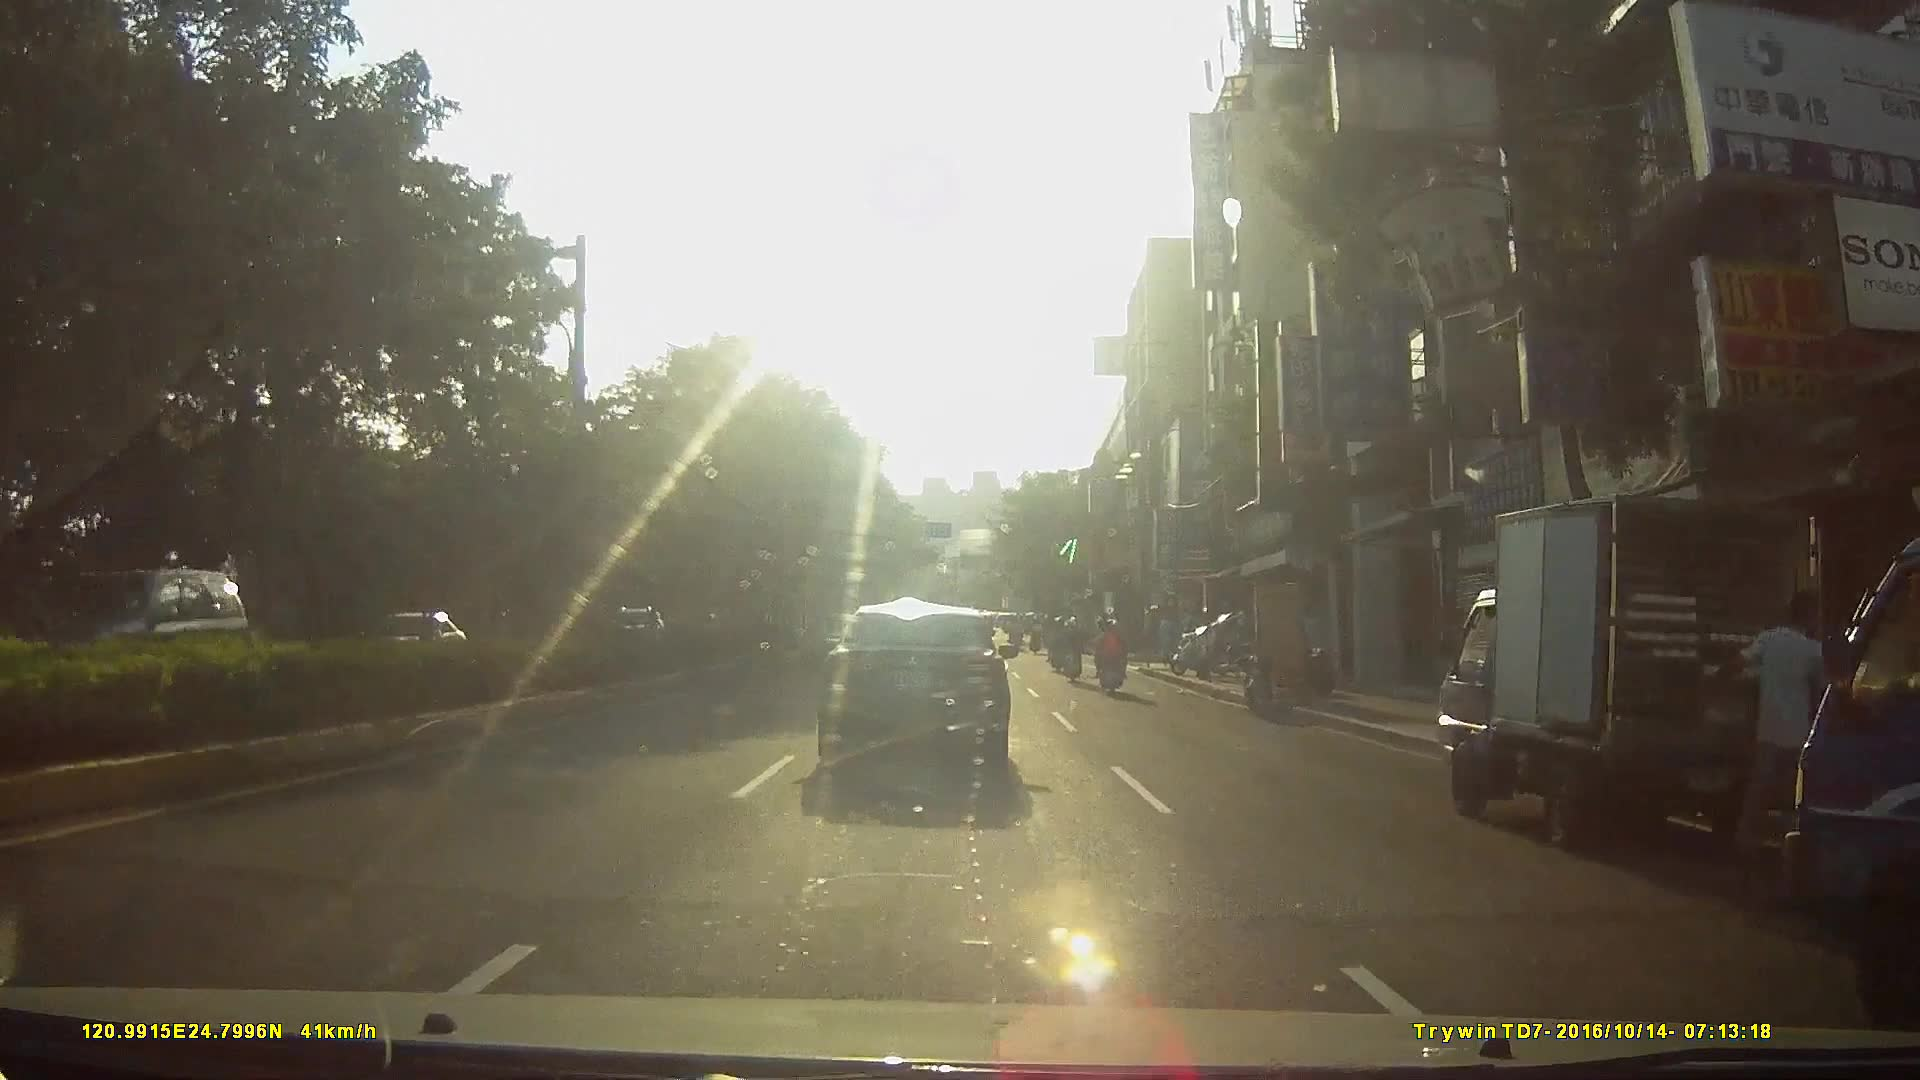pedestrian: (1727, 585, 1832, 862)
rider: (1093, 617, 1130, 697), (1058, 612, 1085, 687), (1048, 607, 1069, 666)
vehicle: (1433, 478, 1826, 845), (810, 593, 1022, 784), (34, 567, 241, 698)
